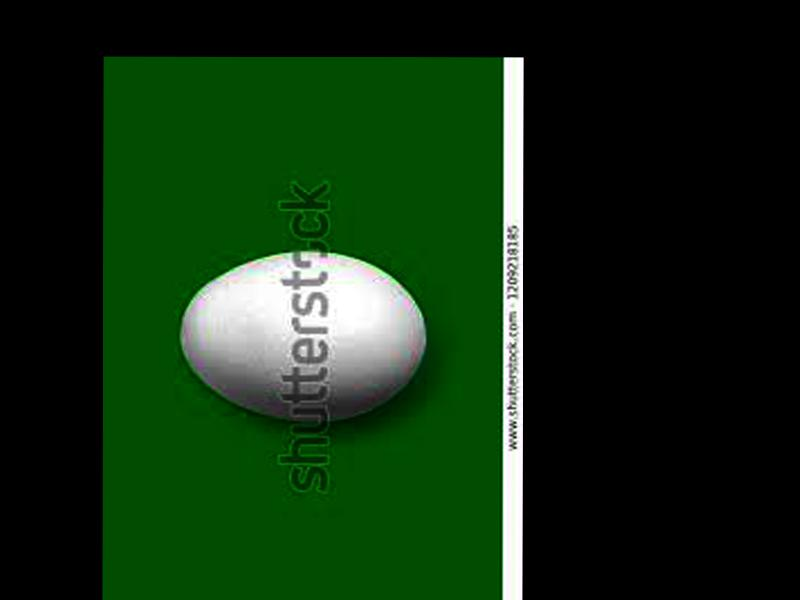Eggs: (179, 252, 424, 423)
